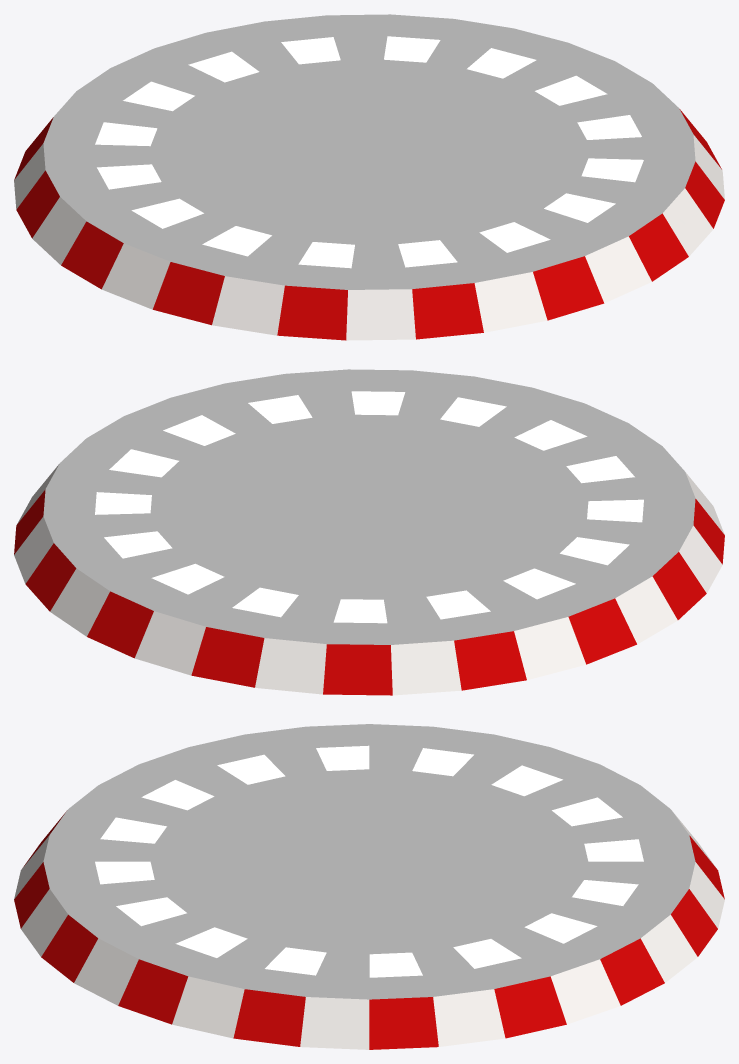
File: platform_2.glb
3 renders of one model, top to bottom at view 1: azimuth 30°, elevation 25°; view 2: azimuth 150°, elevation 25°; view 3: azimuth 270°, elevation 25°, orthographic.
Visible parts, largest first — view 1: Cylinder; view 2: Cylinder; view 3: Cylinder.
Part boxes in pixels (<box>): Cylinder: <box>14,14,724,340</box>; Cylinder: <box>14,369,724,695</box>; Cylinder: <box>14,724,724,1049</box>.
Size of the model in its own units: 8.9 by 0.5239 by 8.9.
